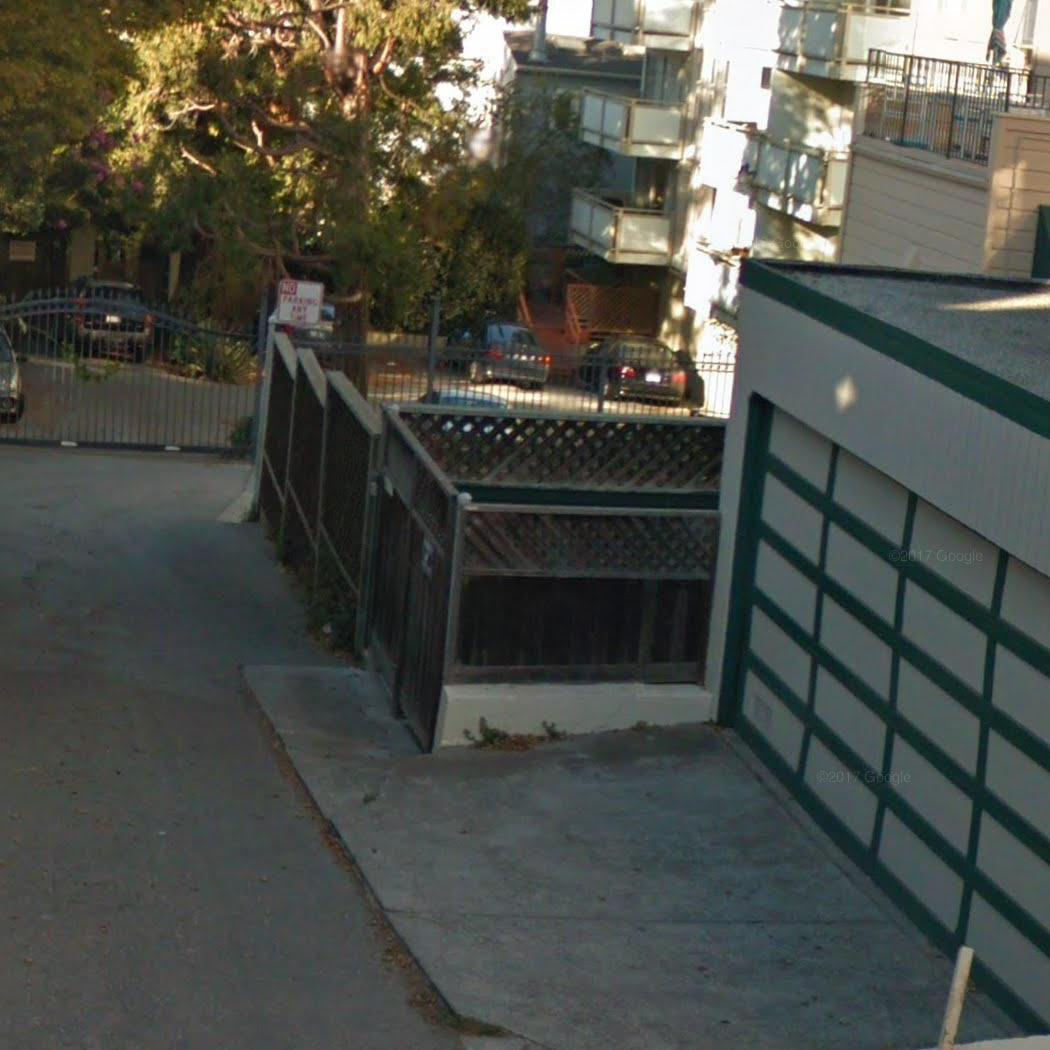No Parking Anytime: (274, 277, 326, 329)
